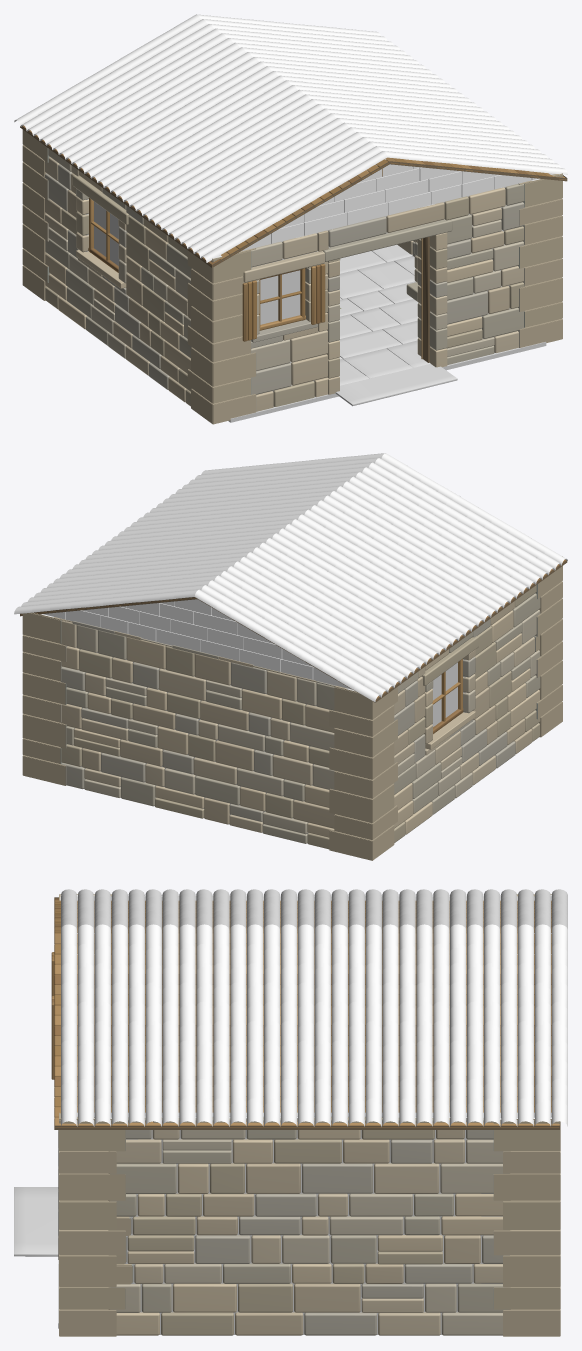
The model's file is Maison_Refonte.fbx.
3 renders of one model, top to bottom at view 1: azimuth 30°, elevation 25°; view 2: azimuth 150°, elevation 25°; view 3: azimuth 270°, elevation 25°, orthographic. The views are drawn at different scales.
Parts seen in each view (by area): view 1: 01_Granit_Moellons_Construits.001, Tuiles_Conserve.003, 04_Dallage_Pierre_Usage, 01_Pignons_Raccords, Bois_Assemblages.003, Vitres_Fenetres_Conserve.003, 02_Menuiserie_Assemblages; view 2: 01_Granit_Moellons_Construits.001, Tuiles_Conserve.003, 01_Pignons_Raccords, Bois_Assemblages.003, Vitres_Fenetres_Conserve.003, 02_Menuiserie_Assemblages; view 3: Tuiles_Conserve.003, 01_Granit_Moellons_Construits.001, 02_Menuiserie_Assemblages, 04_Dallage_Pierre_Usage, Bois_Assemblages.003, Joints_Chaux_Retraits.003.
Part boxes in pixels (x1=…): 01_Granit_Moellons_Construits.001: x1=22, y1=130, x2=562, y2=424; Tuiles_Conserve.003: x1=14, y1=14, x2=567, y2=262; 04_Dallage_Pierre_Usage: x1=228, y1=244, x2=546, y2=422; 01_Pignons_Raccords: x1=213, y1=164, x2=539, y2=258; Bois_Assemblages.003: x1=20, y1=126, x2=567, y2=362; Vitres_Fenetres_Conserve.003: x1=94, y1=201, x2=300, y2=324; 02_Menuiserie_Assemblages: x1=21, y1=125, x2=566, y2=265; 01_Granit_Moellons_Construits.001: x1=22, y1=556, x2=562, y2=860; Tuiles_Conserve.003: x1=14, y1=453, x2=567, y2=701; 01_Pignons_Raccords: x1=41, y1=599, x2=354, y2=690; Bois_Assemblages.003: x1=20, y1=560, x2=567, y2=733; Vitres_Fenetres_Conserve.003: x1=432, y1=662, x2=457, y2=726; 02_Menuiserie_Assemblages: x1=21, y1=559, x2=566, y2=700; Tuiles_Conserve.003: x1=61, y1=889, x2=567, y2=1126; 01_Granit_Moellons_Construits.001: x1=58, y1=894, x2=560, y2=1336; 02_Menuiserie_Assemblages: x1=54, y1=898, x2=559, y2=1127; 04_Dallage_Pierre_Usage: x1=14, y1=1187, x2=58, y2=1328; Bois_Assemblages.003: x1=51, y1=897, x2=559, y2=1129; Joints_Chaux_Retraits.003: x1=77, y1=896, x2=551, y2=1334.
Bounding box in the file's own units: 714 × 435 × 720.
